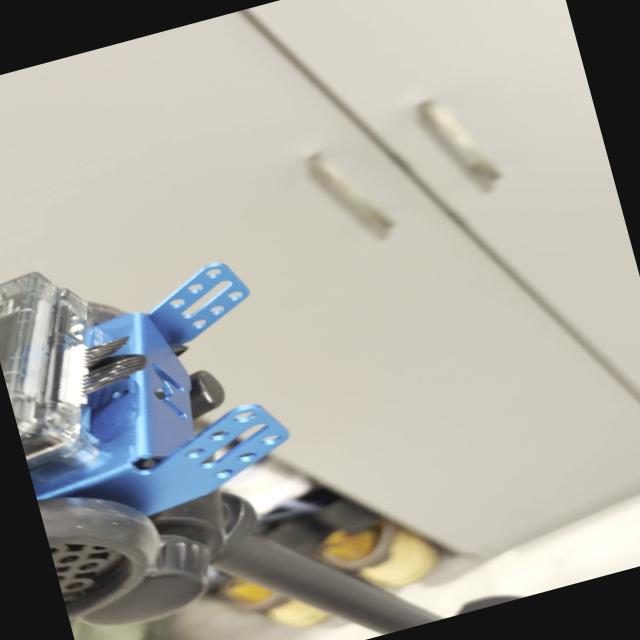mbot-detection: (0, 205, 349, 624)
